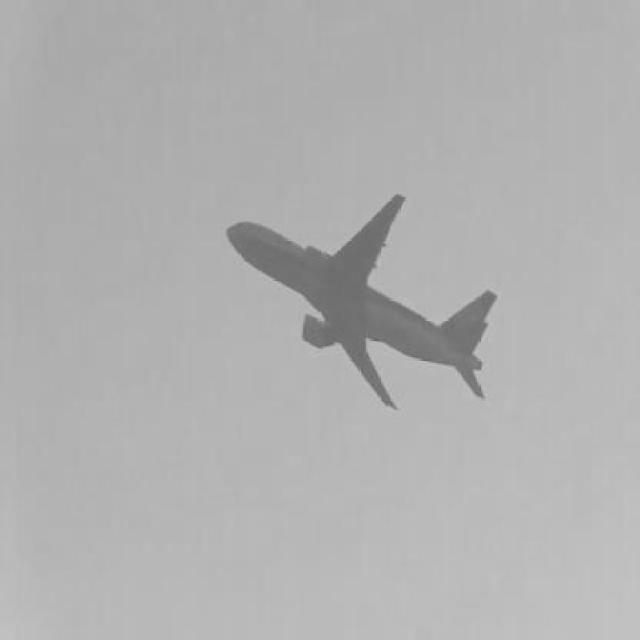aeroplane: (228, 193, 505, 413)
